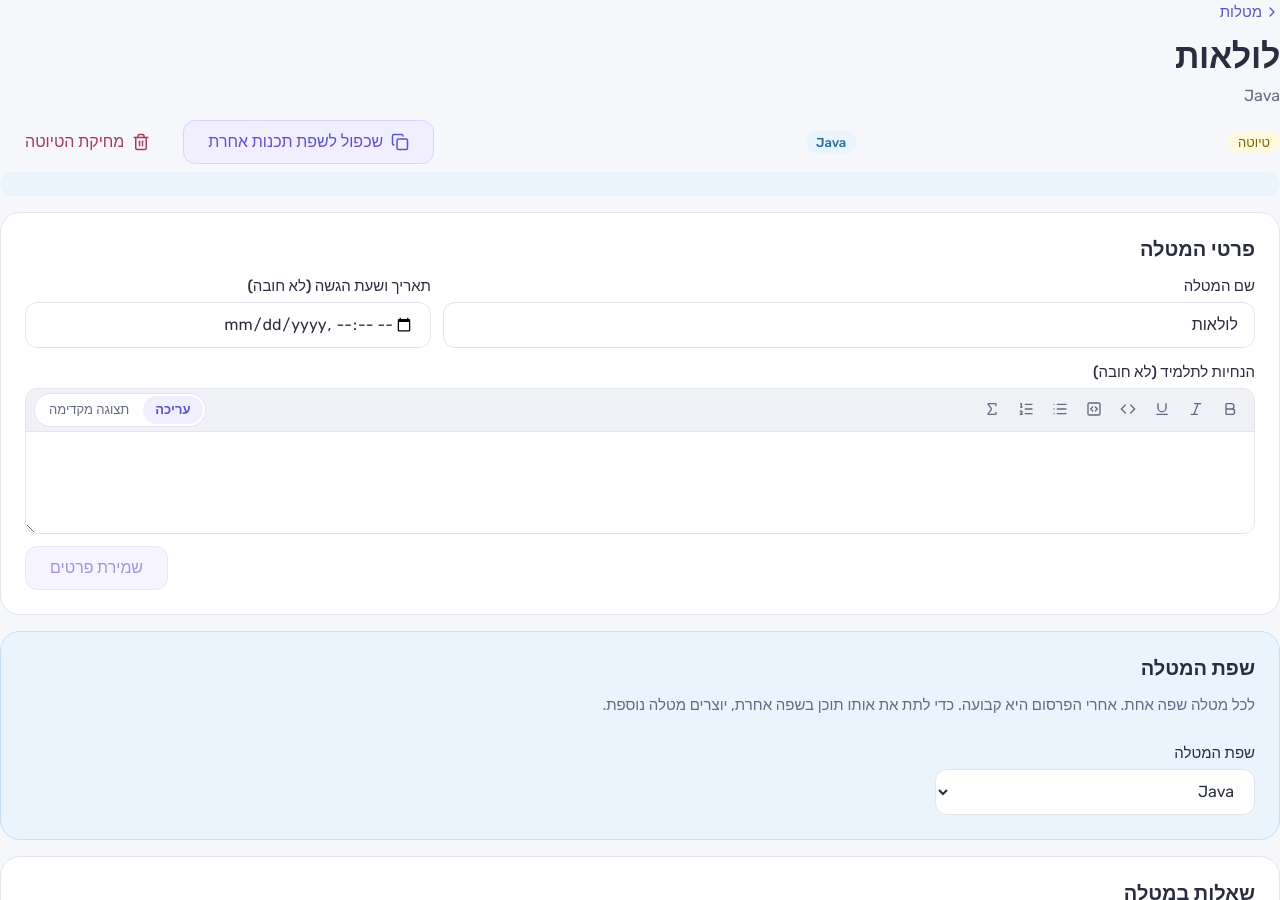
Test: C3 — clone to another programming language › if the state changed after preflight, the server refuses and the dialog shows the list instead of navigating
Click the button "שכפול לשפת תכנות אחרת" at x=309, y=142, box [183,120,434,164]
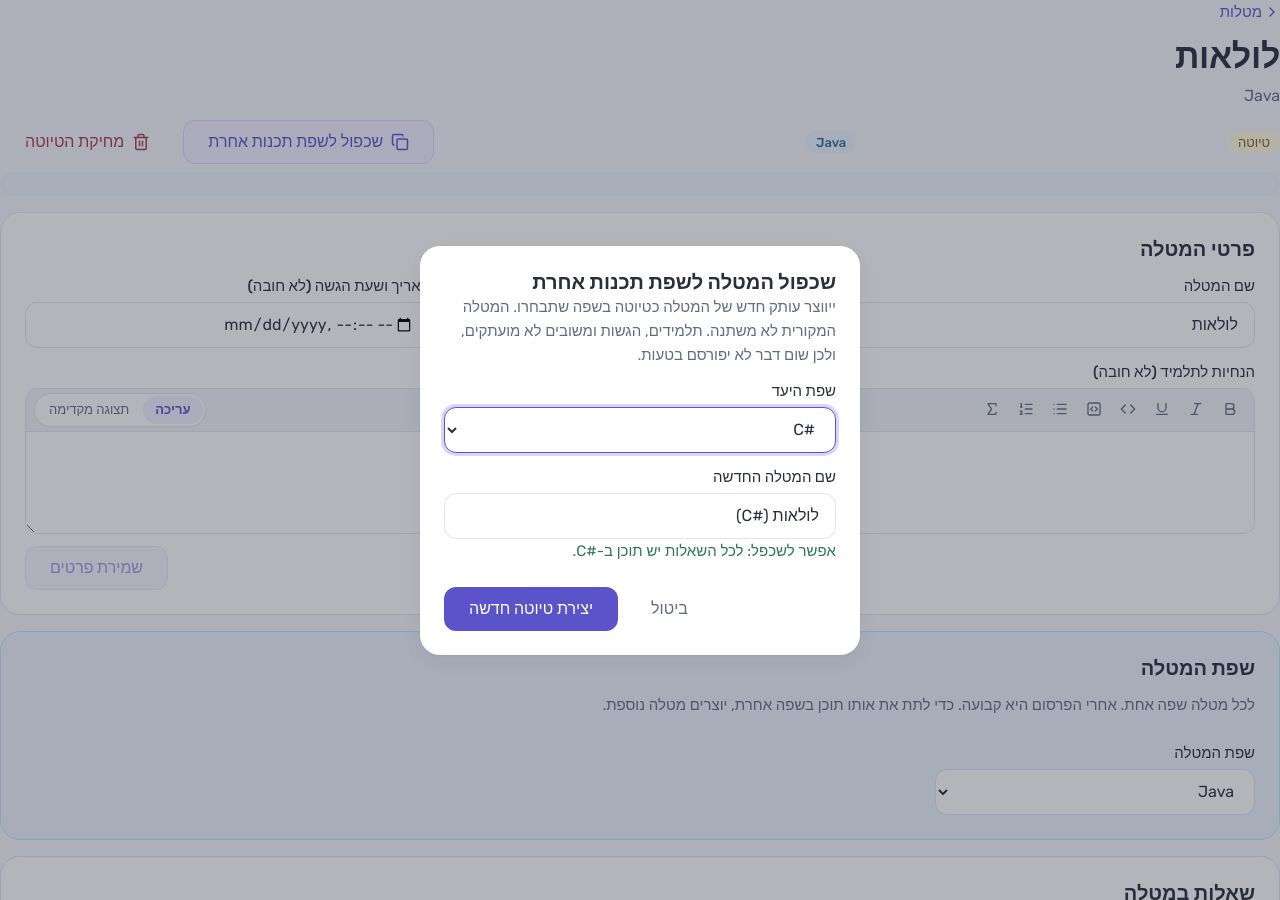
Expected: the text "אפשר לשכפל: לכל השאלות יש תוכן ב- C# ." is shown, [573,542,836,560]
Click the button "יצירת טיוטה חדשה" at x=531, y=608, box [444,586,618,630]
(page scrolled)
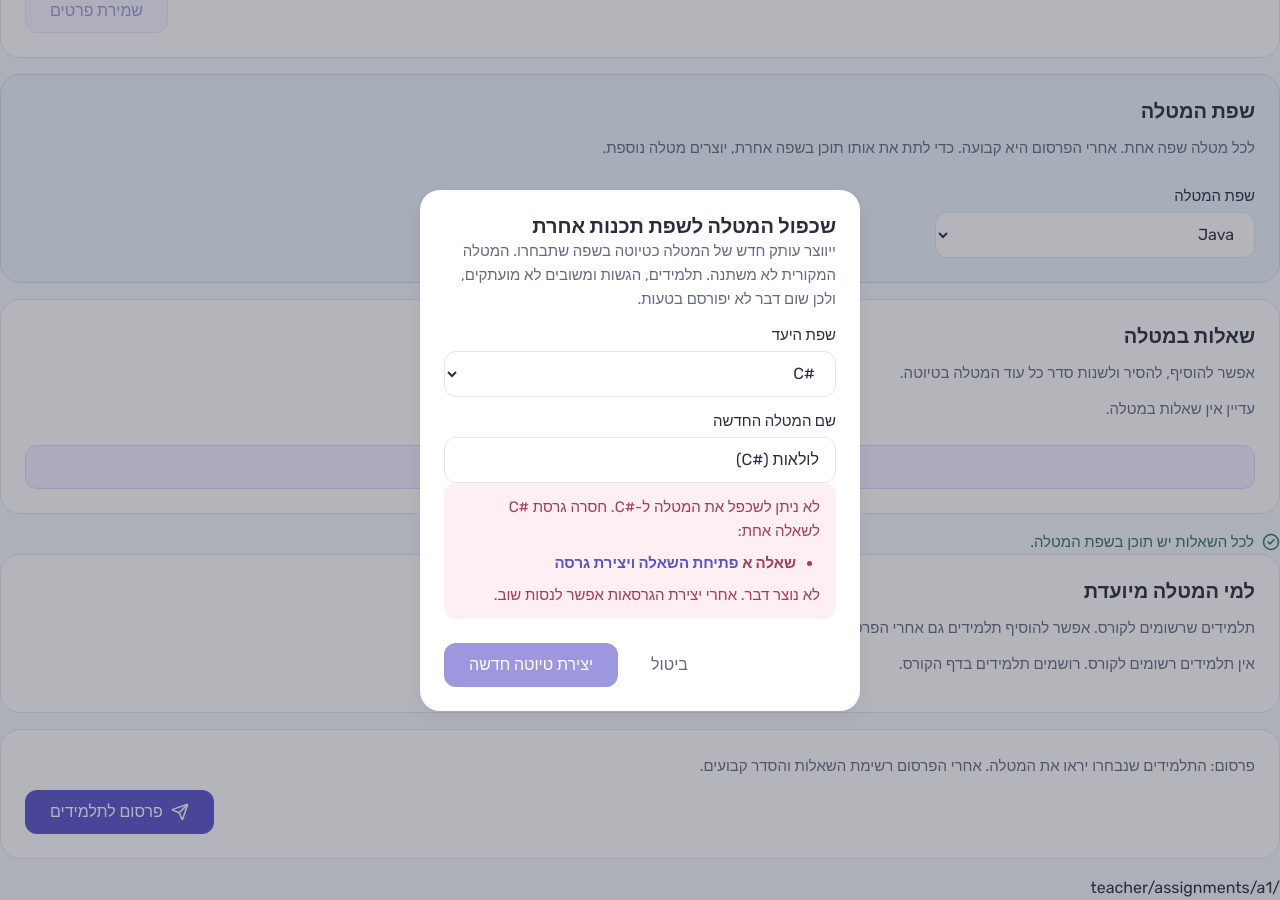
Expected: the text with test id "loc" reads "/teacher/assignments/a1", [1090,878,1279,897]
Expected: the text "לא ניתן לשכפל את המטלה ל- C# . חסרה גרסת C# לשאלה אחת:" is shown, [509,498,820,540]
